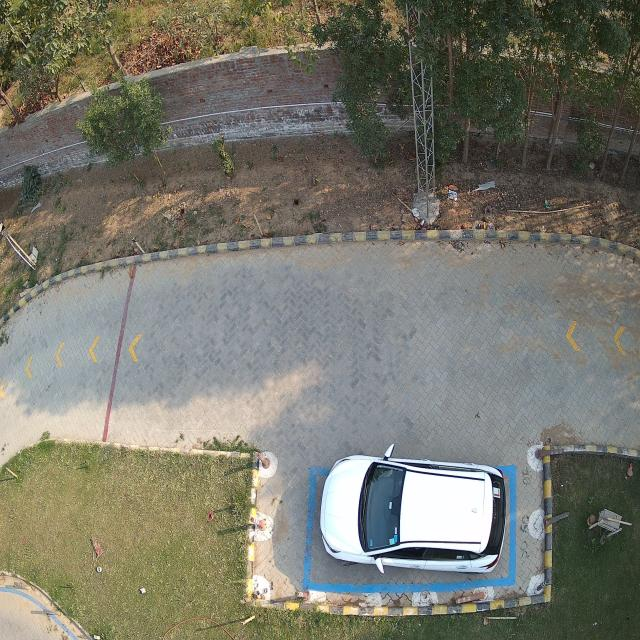car: (320, 454, 506, 574)
